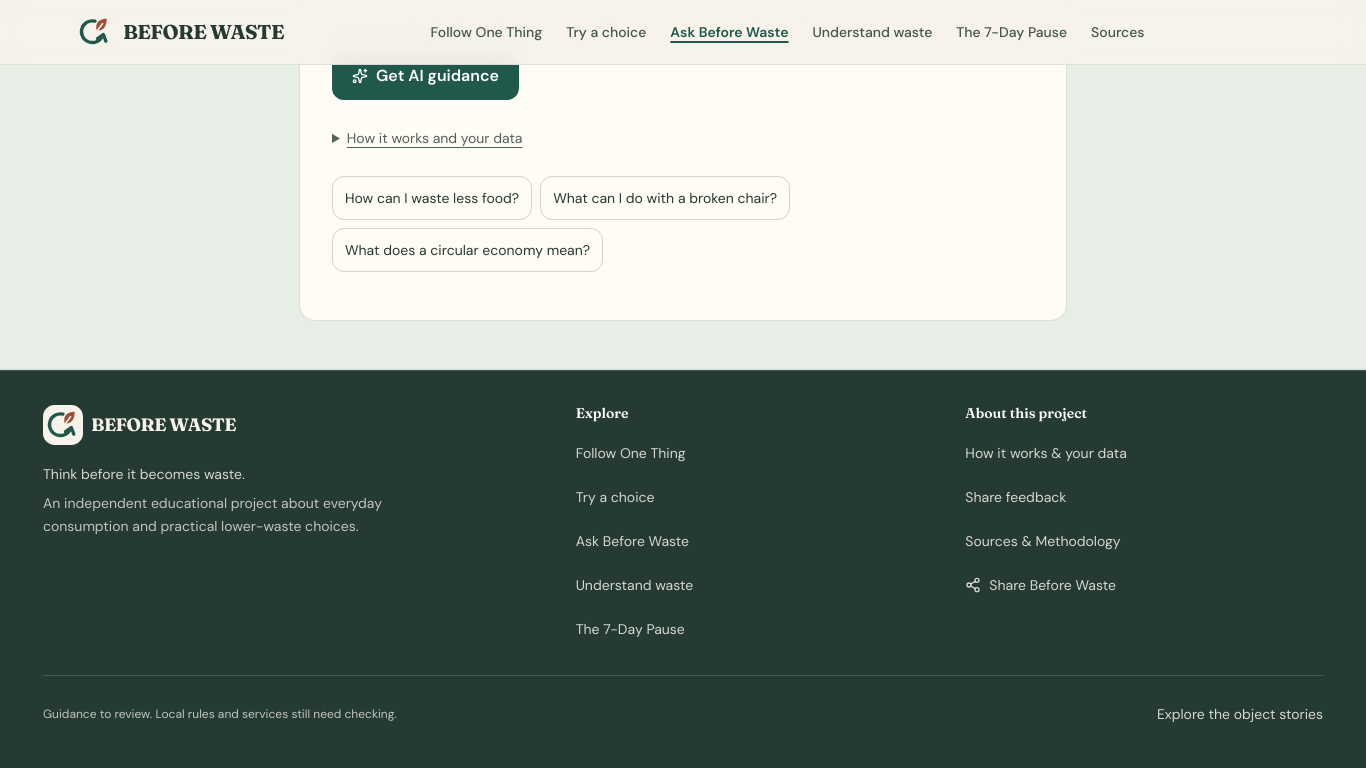
Test: provides one data disclosure on ask and opens it from the footer
(page scrolled)
Expected: the number of elements with id "how-it-works" is 1, [347,129,522,147]
Click the link with id "how-it-works" at (1046, 453), box [965,444,1127,462]
(page scrolled)
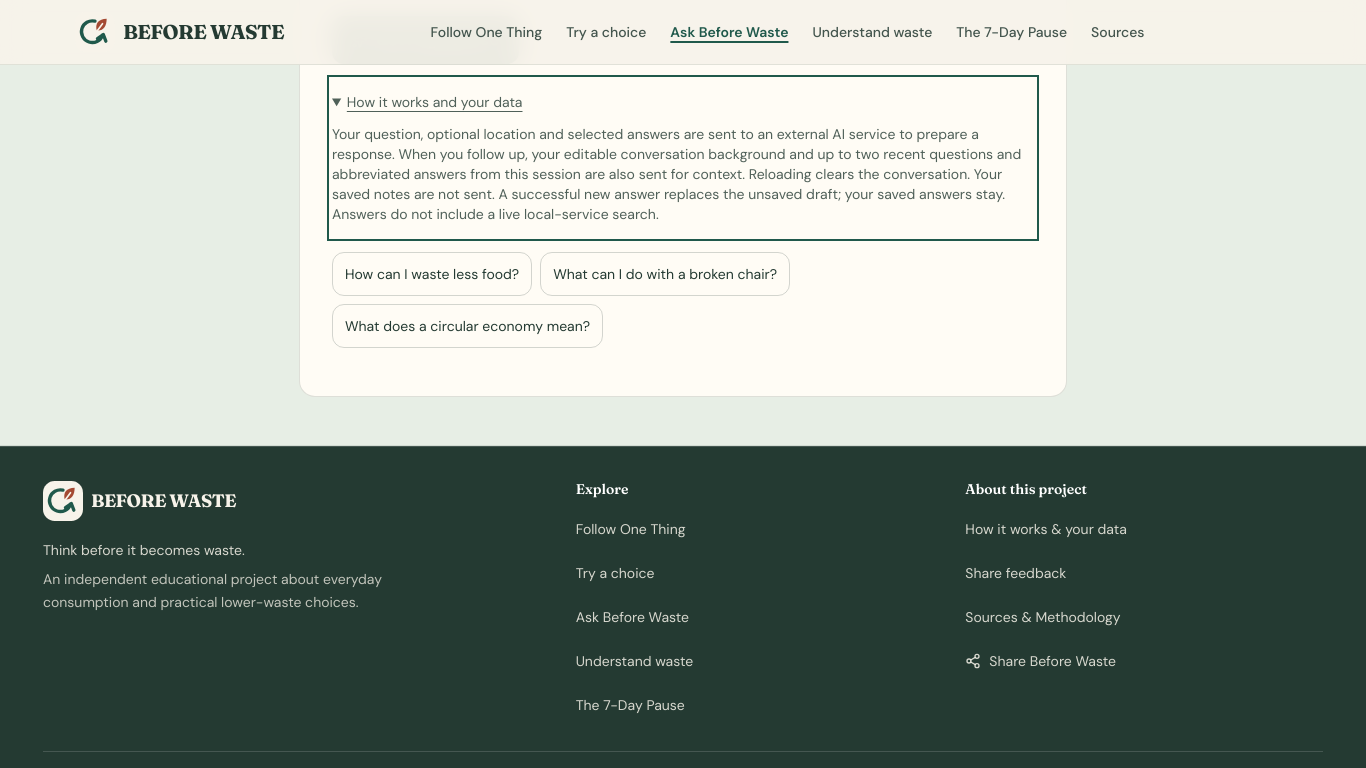
Result: the element with id "how-it-works" shows "Your saved notes are not sent" at [332,125,1021,223]
